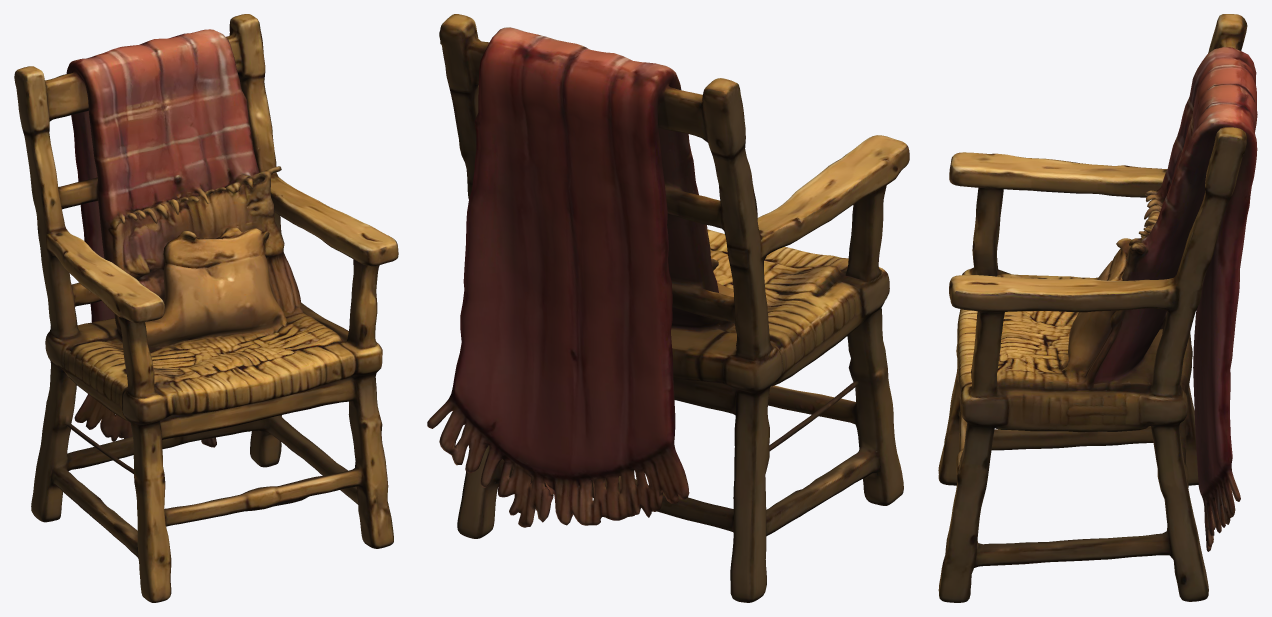
File: woven-armchair.glb
3 renders of one model, left to right at view 1: azimuth 30°, elevation 25°; view 2: azimuth 150°, elevation 25°; view 3: azimuth 270°, elevation 25°, orthographic. The views are drawn at different scales.
Visible parts, largest first — view 1: tripo_node_ec09b19a; view 2: tripo_node_ec09b19a; view 3: tripo_node_ec09b19a.
Part boxes in pixels (bbox=[...]): tripo_node_ec09b19a: bbox=[14, 14, 398, 602]; tripo_node_ec09b19a: bbox=[427, 14, 909, 602]; tripo_node_ec09b19a: bbox=[938, 14, 1257, 602].
Bounding box in the file's own units: 63.42 × 97.74 × 60.31.
Materials: 1 (1 with a texture image).
